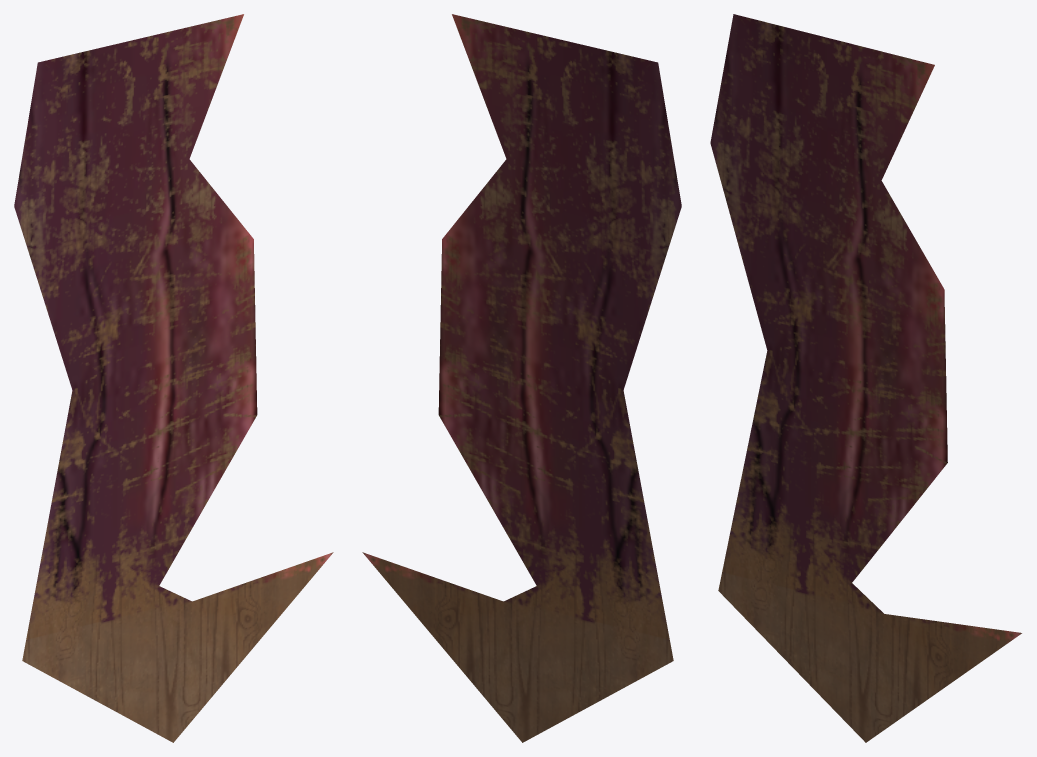
The model's file is Gancho_Arbol.fbx.
The picture shows the model from 3 angles, left to right: view 1: azimuth 30°, elevation 25°; view 2: azimuth 150°, elevation 25°; view 3: azimuth 330°, elevation 25°; orthographic projection. The views are drawn at different scales.
Visible parts, largest first — view 1: Plane.002; view 2: Plane.002; view 3: Plane.002.
Boxes of the visible parts, x1,y1,x2,y2 form: Plane.002: (14,14,333,742); Plane.002: (362,14,681,742); Plane.002: (710,14,1021,742).
Bounding box in the file's own units: 71.38 × 152 × 6.65e-06.
Materials: 1 (1 with a texture image).
